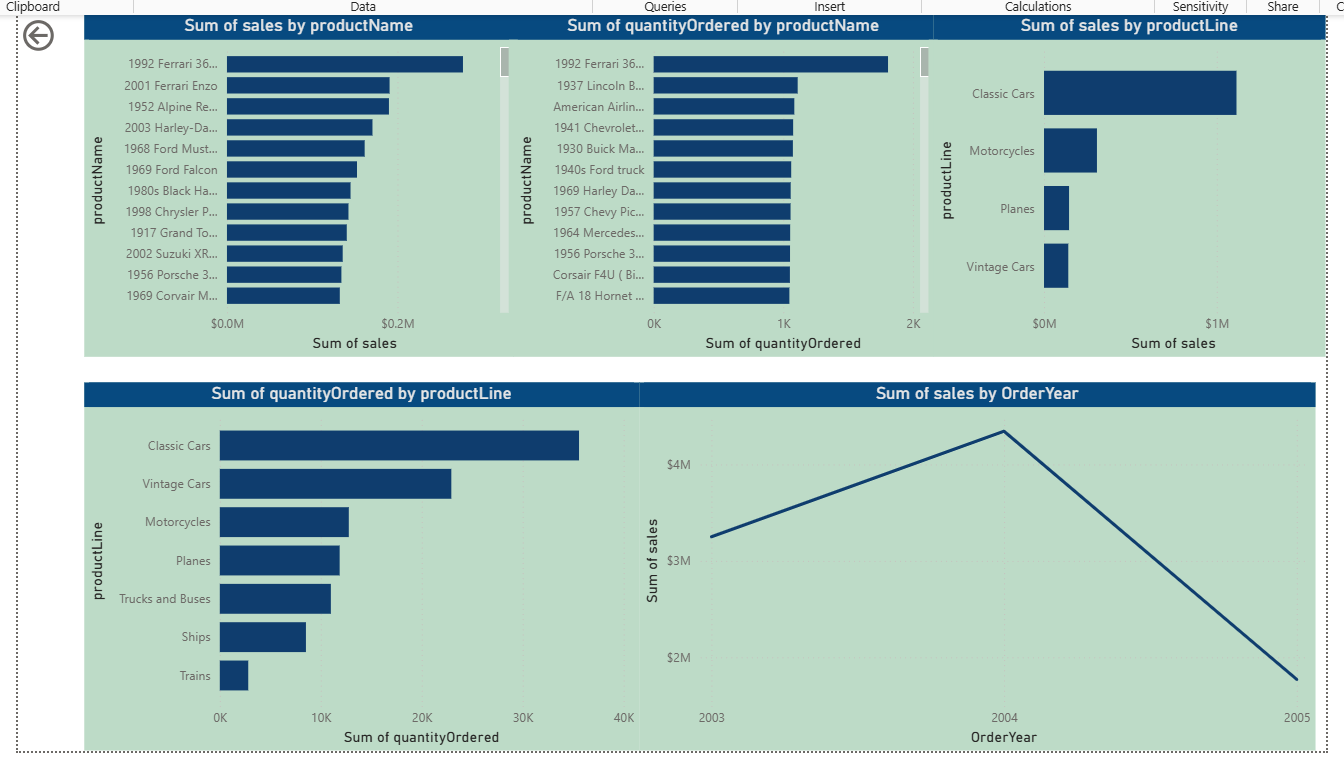

The page's visual inventory and layout, read from the dashboard file:
{"tool":"powerbi","page":{"name":"Page 2","canvas":[1280,720],"ordinal":2},"visuals":[{"type":"actionButton","box":[0,0,100,40],"z":0},{"type":"barChart","fields":{"Y":["Sum(orders details.sales)"],"Category":["products.productLine"]},"box":[895.7,0,384.3,334.3],"z":1000},{"type":"barChart","fields":{"Category":["products.productName"],"Y":["Sum(orders details.sales)"]},"box":[64.3,0,420,334.3],"z":2000},{"type":"barChart","fields":{"Category":["products.productLine"],"Y":["Sum(orders details.quantityOrdered)"]},"box":[64.3,360,542.9,360],"z":3000},{"type":"barChart","fields":{"Y":["Sum(orders details.quantityOrdered)"],"Category":["products.productName"]},"box":[484.3,0,411.4,334.3],"z":4000},{"type":"lineChart","fields":{"Y":["Sum(orders details.sales)"],"Category":["orders.OrderYear"]},"box":[607.1,360,661.4,360],"z":5000}]}

Visuals, with their boxes on the page's 1280x720 design canvas (x1, y1, x2, y2). These are canvas units, not pixel positions in the 1344x758 screenshot, which may show the page scaled, cropped or inside an application window:
actionButton: select_region(0, 0, 100, 40)
barChart - Sum(orders details.sales) x products.productLine: select_region(896, 0, 1280, 334)
barChart - products.productName x Sum(orders details.sales): select_region(64, 0, 484, 334)
barChart - products.productLine x Sum(orders details.quantityOrdered): select_region(64, 360, 607, 720)
barChart - Sum(orders details.quantityOrdered) x products.productName: select_region(484, 0, 896, 334)
lineChart - Sum(orders details.sales) x orders.OrderYear: select_region(607, 360, 1268, 720)
